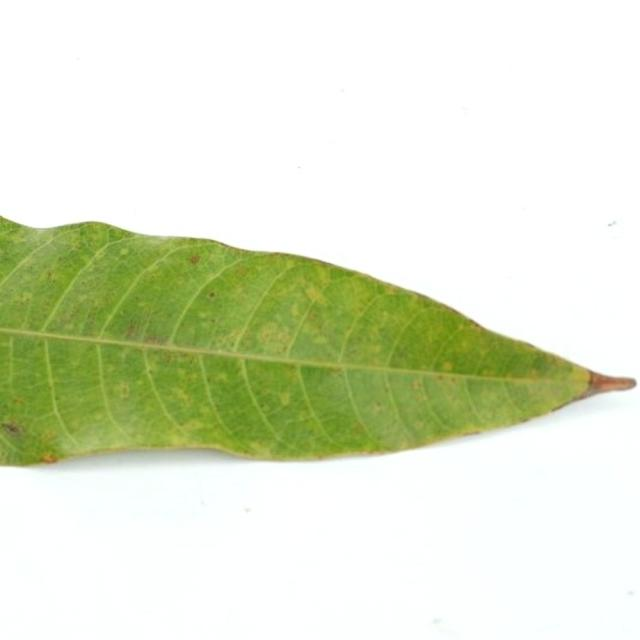Mango: (0, 218, 590, 463)
Powdery_Mildew: (51, 278, 119, 334), (261, 323, 300, 360), (135, 331, 180, 351), (528, 353, 555, 374), (304, 285, 327, 305), (227, 282, 249, 297), (182, 418, 207, 431), (2, 422, 23, 435), (40, 429, 58, 444), (173, 389, 190, 403), (115, 383, 130, 398), (40, 452, 58, 463), (228, 328, 243, 341), (233, 266, 249, 278), (467, 317, 483, 329), (278, 391, 291, 405), (70, 239, 84, 251), (290, 302, 301, 317), (313, 335, 328, 345), (369, 344, 382, 355), (19, 291, 33, 301), (412, 379, 423, 391), (285, 258, 296, 270), (441, 361, 454, 371), (353, 422, 364, 433), (197, 311, 210, 320), (332, 368, 345, 377), (373, 402, 384, 412), (189, 254, 200, 264), (300, 411, 312, 420), (12, 397, 25, 405), (414, 420, 424, 430), (93, 411, 104, 420), (480, 368, 492, 376), (457, 324, 466, 333), (119, 248, 129, 256), (45, 270, 53, 279), (437, 375, 445, 382), (208, 291, 215, 298)
